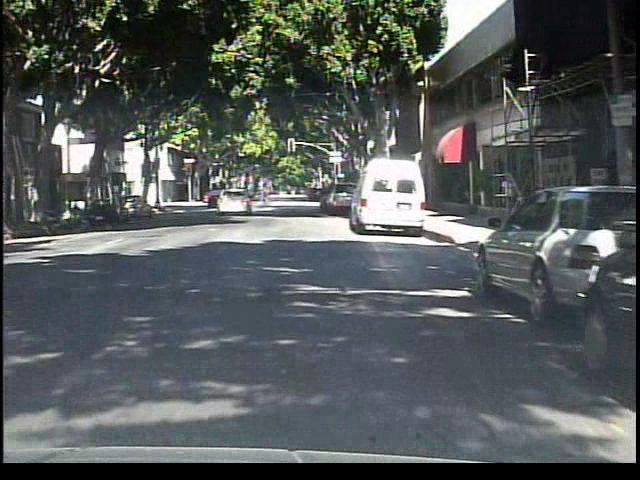person: (495, 166, 521, 229), (255, 178, 276, 212)
